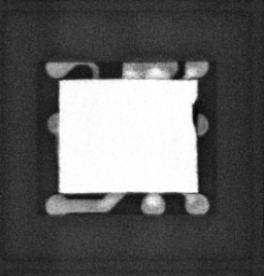DIE_BROKEN: (190, 96, 199, 130)
